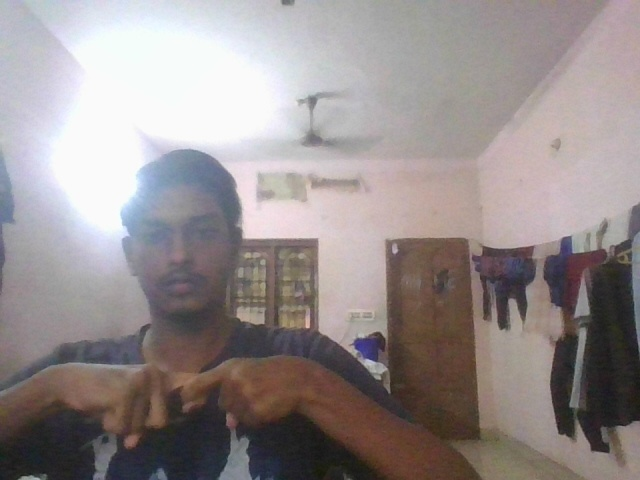friend: (26, 349, 332, 449)
